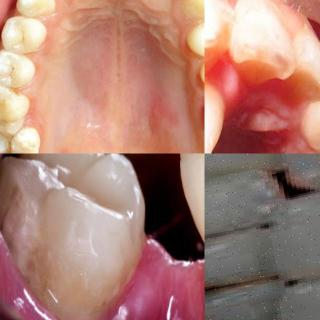maligned: (204, 80, 234, 154), (11, 129, 39, 153)
plaque: (0, 196, 82, 291), (226, 0, 294, 31)
